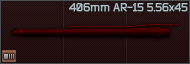AR-15 5.56x45 406mm barrel: (0, 0, 190, 64)
